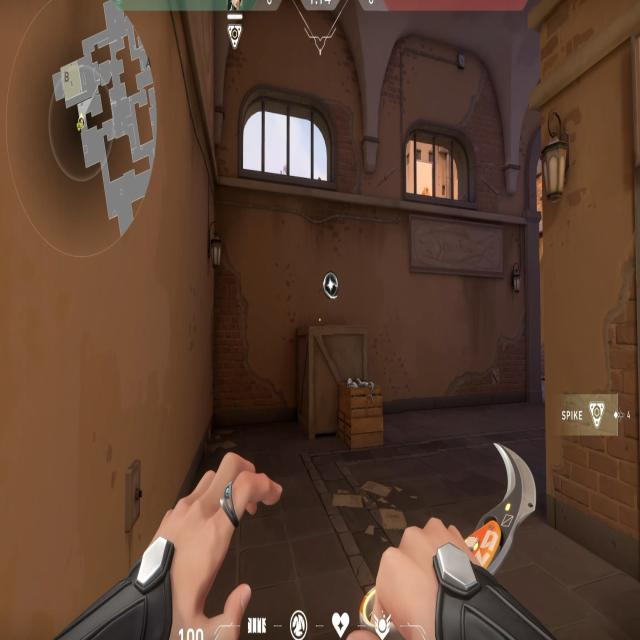B_Main_Wallbang: (290, 261, 392, 461)
Throwables: (230, 78, 344, 204), (396, 107, 483, 216)
